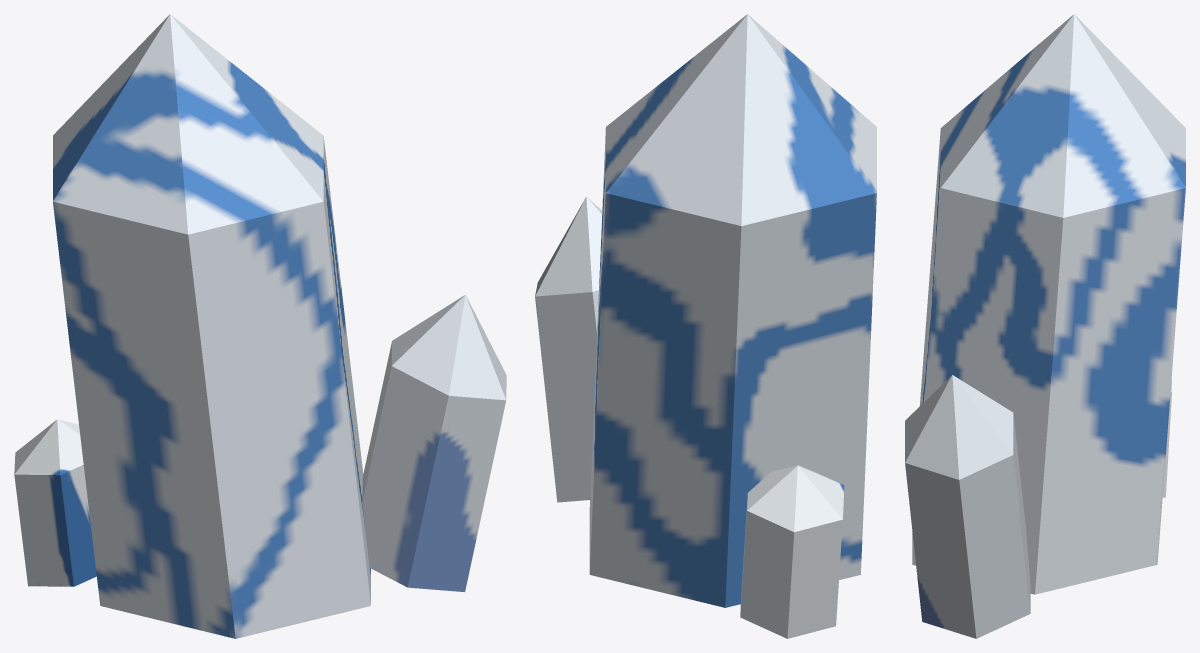
Rendered from crystalline_item.glb.
The picture shows the model from 3 angles, left to right: view 1: azimuth 30°, elevation 25°; view 2: azimuth 150°, elevation 25°; view 3: azimuth 270°, elevation 25°; orthographic projection. The views are drawn at different scales.
Parts seen in each view (by area): view 1: CrystalMain, CrystalSmall, CrystalTiny; view 2: CrystalMain, CrystalTiny, CrystalSmall; view 3: CrystalMain, CrystalSmall.
Part boxes in pixels (left/top/right/bottom): CrystalMain: left=53, top=14, right=370, bottom=638; CrystalSmall: left=362, top=295, right=506, bottom=591; CrystalTiny: left=14, top=419, right=96, bottom=586; CrystalMain: left=589, top=14, right=876, bottom=607; CrystalTiny: left=740, top=464, right=844, bottom=638; CrystalSmall: left=535, top=196, right=602, bottom=502; CrystalMain: left=912, top=14, right=1185, bottom=594; CrystalSmall: left=905, top=375, right=1030, bottom=638.
Bounding box in the file's own units: 0.1424 × 0.1954 × 0.096.
Materials: 3 (3 with a texture image).
